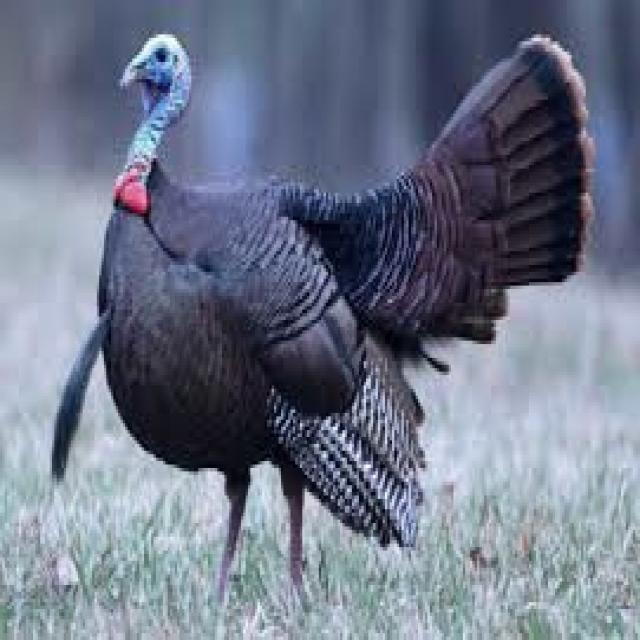turkey: (52, 34, 588, 592)
